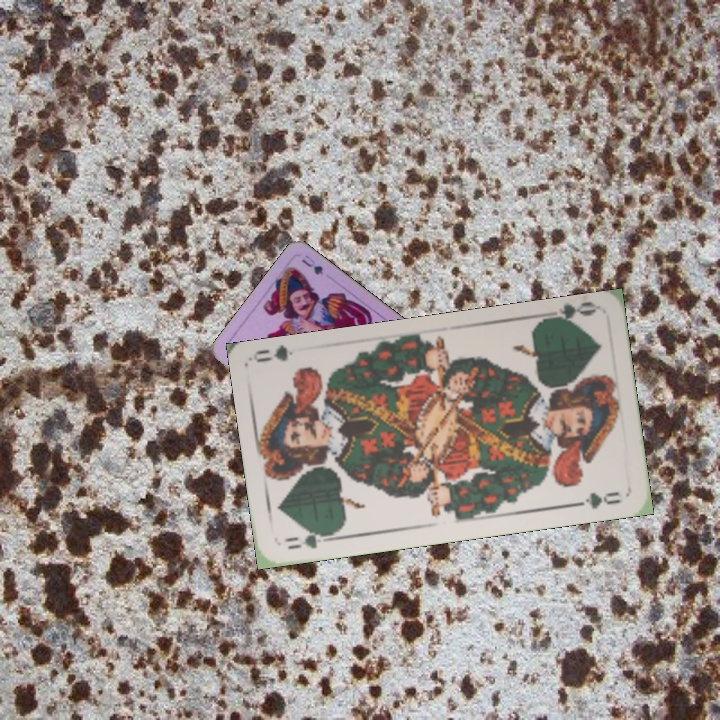GO: (539, 299, 599, 329), (280, 527, 338, 552)
